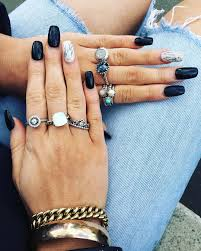nail: (175, 65, 199, 80), (47, 25, 61, 48), (63, 40, 76, 64), (31, 40, 44, 60), (3, 110, 15, 131), (161, 50, 182, 62), (164, 85, 185, 96), (134, 35, 154, 46), (84, 71, 95, 89)
